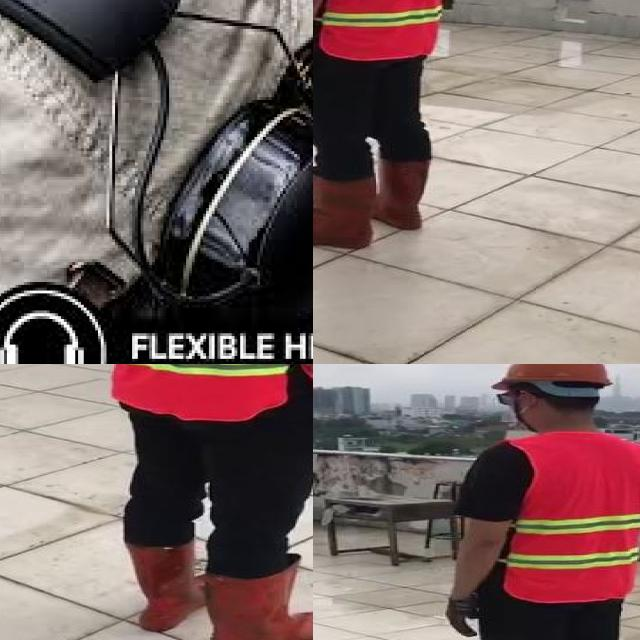Ear-protection: (154, 91, 313, 313)
boots: (202, 562, 313, 640), (123, 540, 206, 633), (313, 171, 374, 251), (369, 158, 433, 229)
hand_glove: (442, 596, 481, 638)
head_helmet: (495, 364, 614, 388)
person: (65, 364, 313, 640), (430, 364, 640, 640), (313, 0, 473, 255)
vest: (498, 433, 640, 602), (78, 364, 305, 422), (313, 0, 466, 59)
